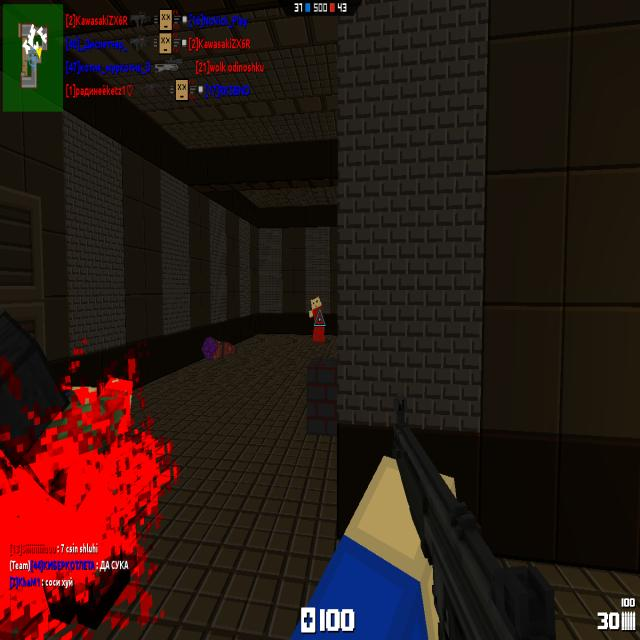enemy: (308, 294, 326, 343)
